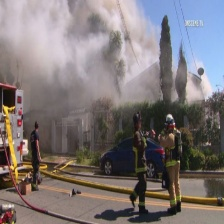smoke: (4, 1, 209, 104)
